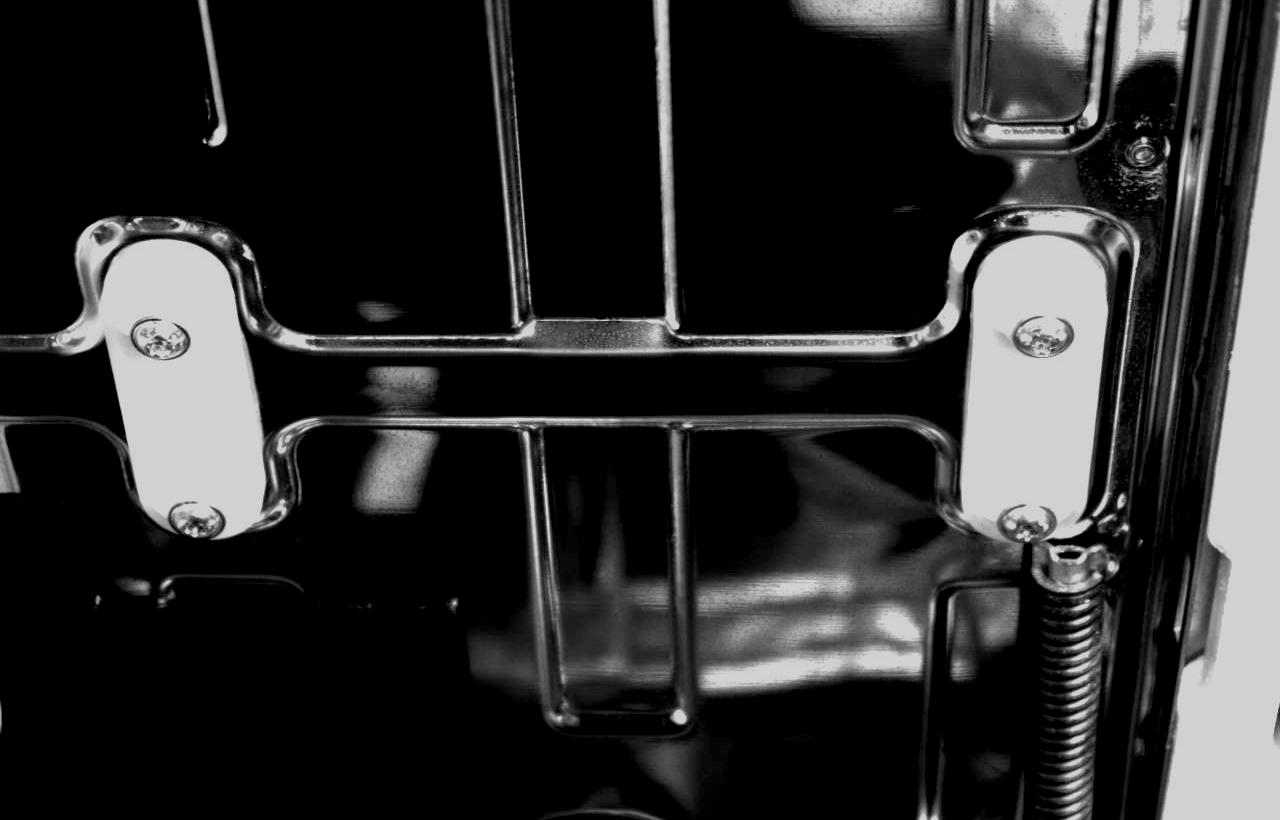vida-ok: (114, 304, 201, 382), (996, 296, 1084, 368), (160, 482, 237, 547), (983, 488, 1059, 547)
